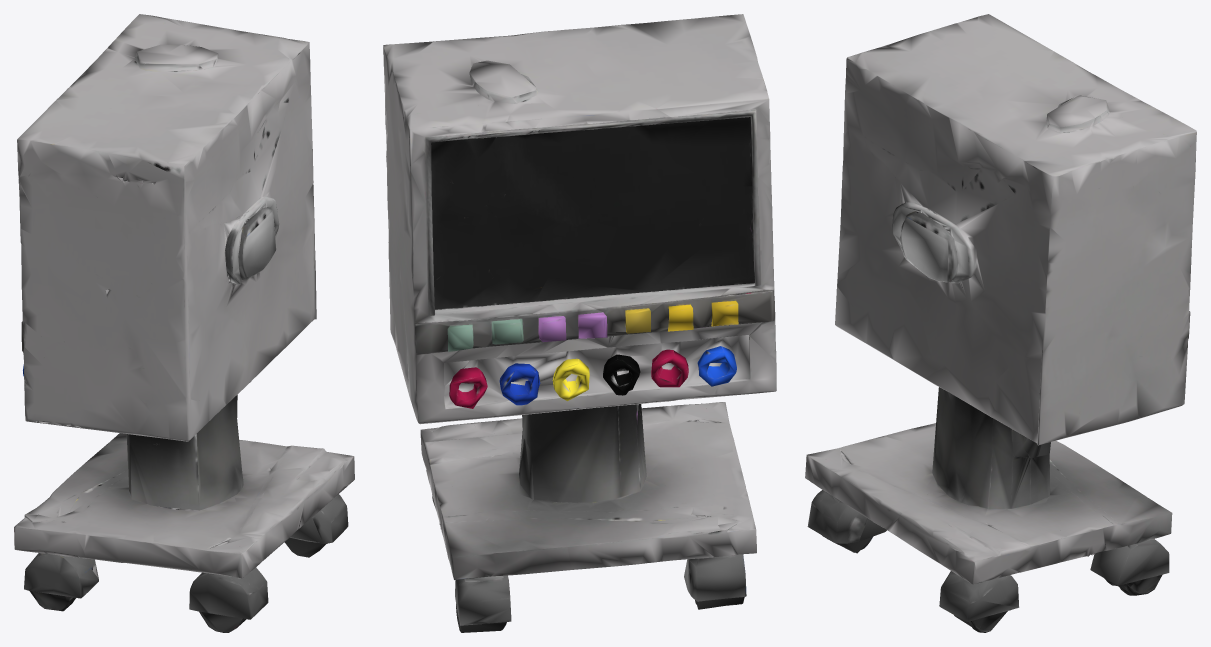
The model's file is champion.glb.
3 views of the same model, side by side, from view 1: azimuth 30°, elevation 25°; view 2: azimuth 150°, elevation 25°; view 3: azimuth 270°, elevation 25° (orthographic). The views are drawn at different scales.
Size of the model in its own units: 0.5952 by 0.8435 by 0.6175.
1 material, 1 textured.
